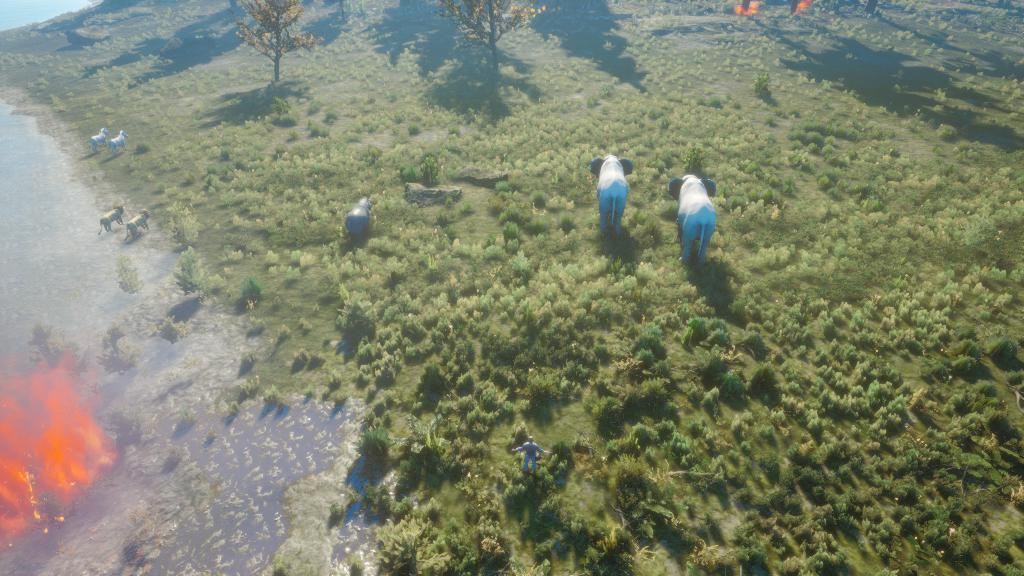Fire: (6, 379, 104, 497), (737, 1, 764, 22), (792, 0, 815, 17)
elephant: (668, 159, 727, 269), (584, 143, 640, 238)
hippopotamus: (340, 183, 385, 255)
human: (504, 428, 559, 486)
lion: (91, 191, 129, 241), (123, 204, 166, 247)
zebra: (79, 113, 108, 156), (105, 124, 130, 158)
